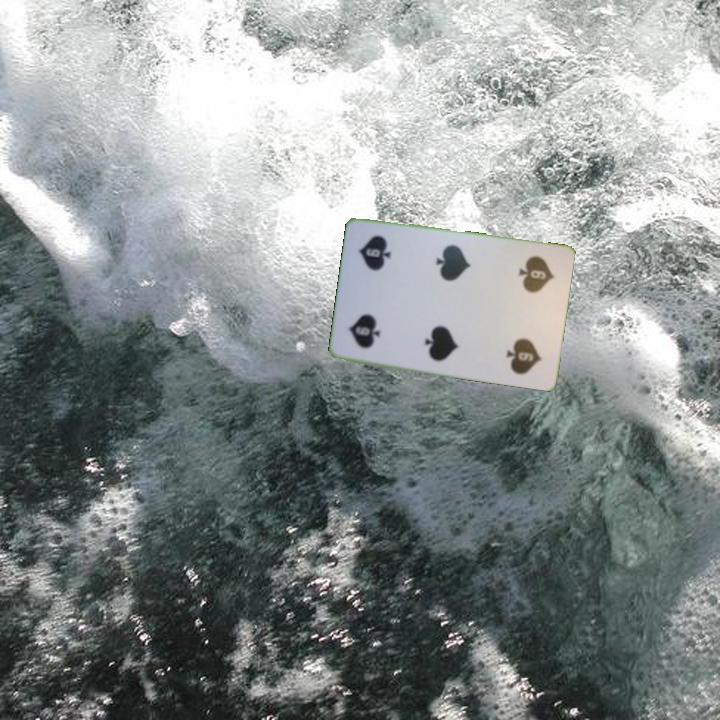s_6.png: (338, 286, 404, 360), (499, 247, 565, 320)
